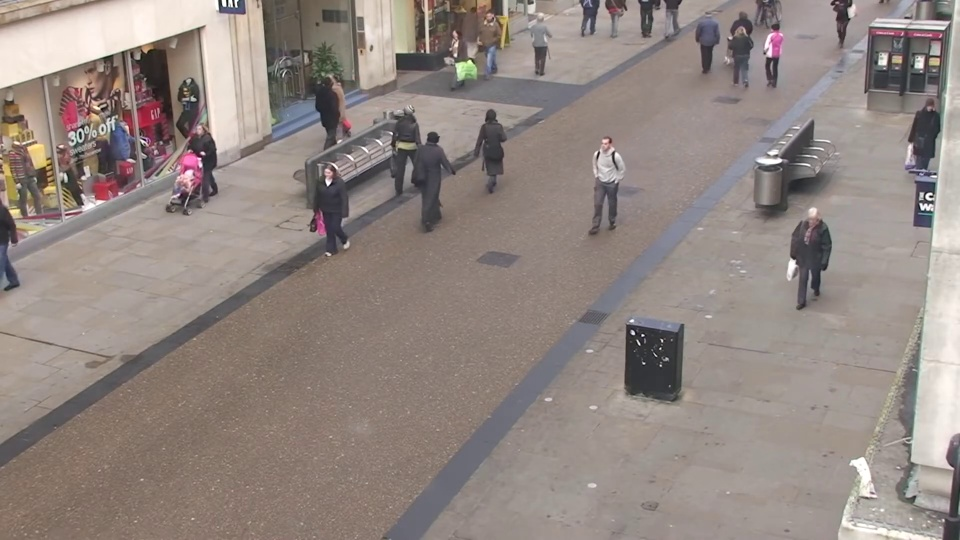pedestrian: (784, 204, 829, 324), (902, 98, 947, 194), (307, 162, 346, 269), (178, 122, 217, 217), (582, 137, 615, 239), (423, 120, 457, 217), (400, 95, 432, 185), (479, 101, 510, 193), (308, 74, 339, 157), (320, 68, 351, 149), (759, 19, 786, 90), (724, 21, 750, 92), (441, 27, 467, 98), (730, 7, 756, 74), (696, 7, 720, 74), (476, 10, 500, 76), (531, 9, 554, 76), (466, 3, 490, 67)
